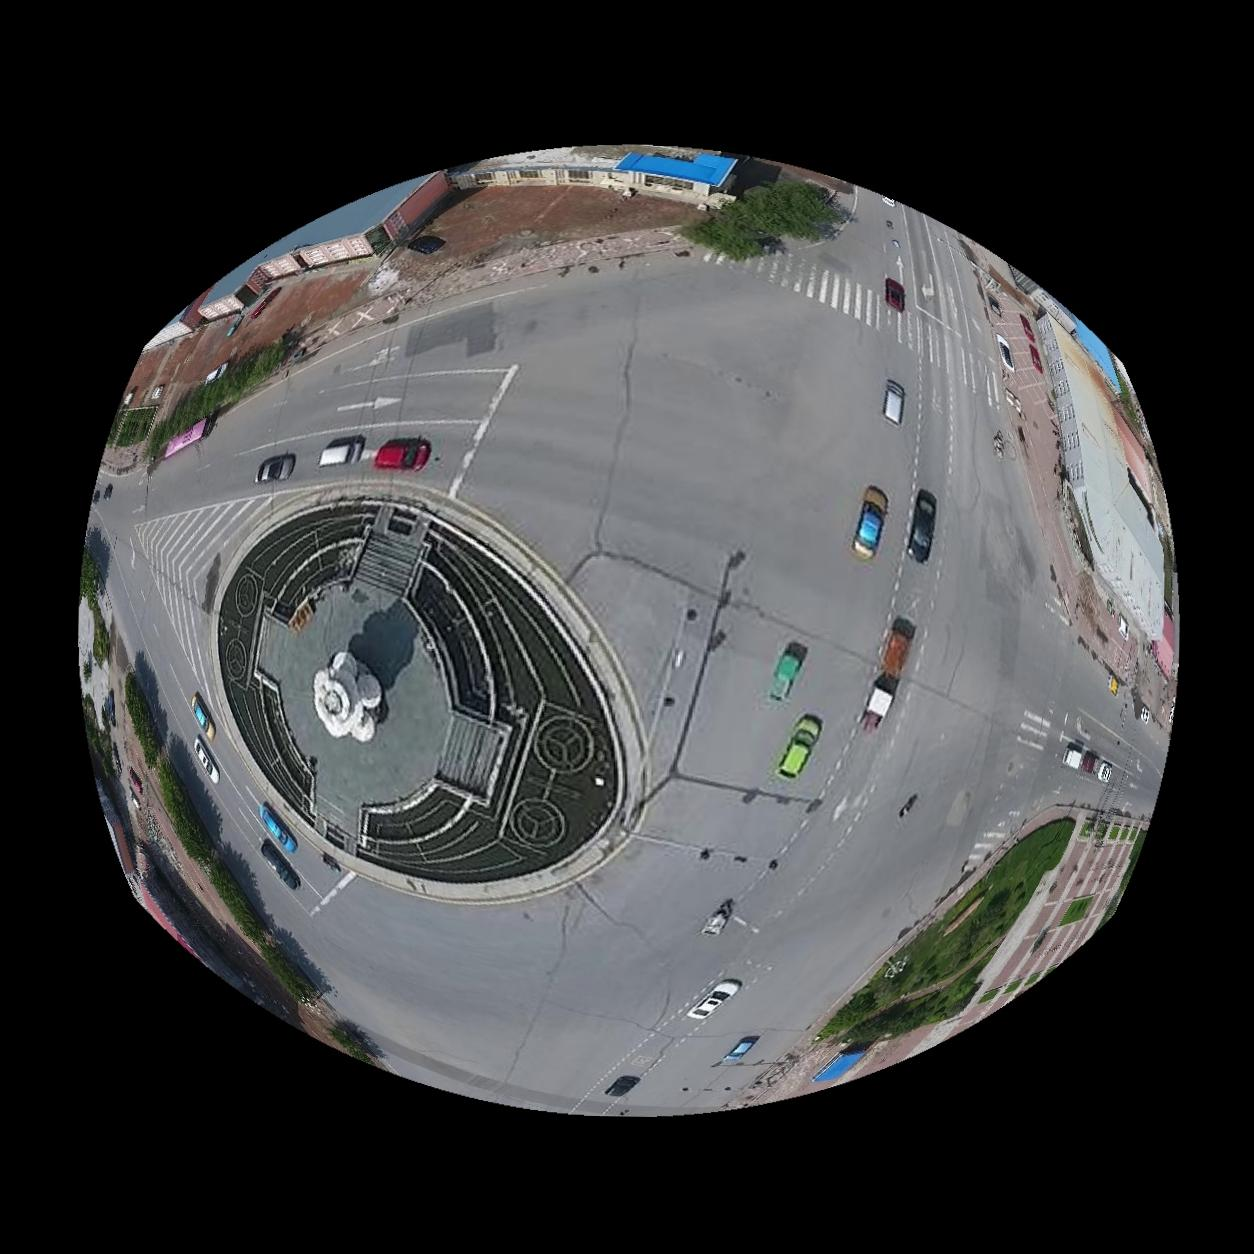building: (142, 170, 450, 350), (1038, 316, 1178, 678), (446, 147, 736, 208), (813, 1044, 872, 1084)
cars: (861, 617, 916, 730), (775, 715, 821, 779), (852, 486, 888, 558), (162, 410, 215, 457), (767, 643, 807, 700), (687, 980, 741, 1021), (907, 489, 936, 563), (1063, 743, 1114, 783), (257, 803, 296, 853), (258, 841, 297, 891), (372, 438, 429, 471), (317, 434, 363, 465), (191, 735, 217, 784), (187, 692, 214, 740), (719, 1037, 760, 1066), (255, 452, 293, 481), (883, 380, 905, 423), (604, 1076, 640, 1099), (884, 277, 906, 310), (998, 332, 1015, 369)
trees: (818, 821, 1076, 1046), (142, 333, 296, 457), (681, 179, 845, 260), (153, 758, 207, 872), (262, 926, 330, 1006), (214, 844, 265, 946), (122, 672, 163, 768), (326, 1021, 378, 1068)
